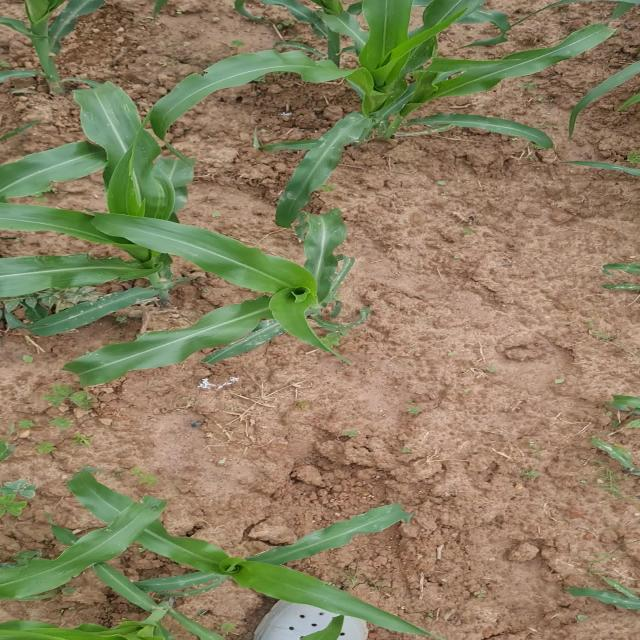maize: (0, 91, 447, 353), (21, 470, 415, 640), (305, 0, 527, 153), (545, 10, 640, 295), (0, 0, 92, 78), (607, 384, 640, 504), (586, 570, 640, 631)
